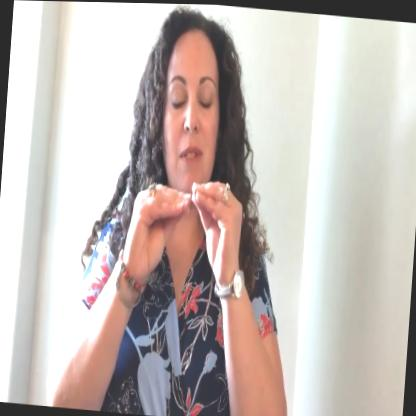Fix: (116, 138, 246, 334)
